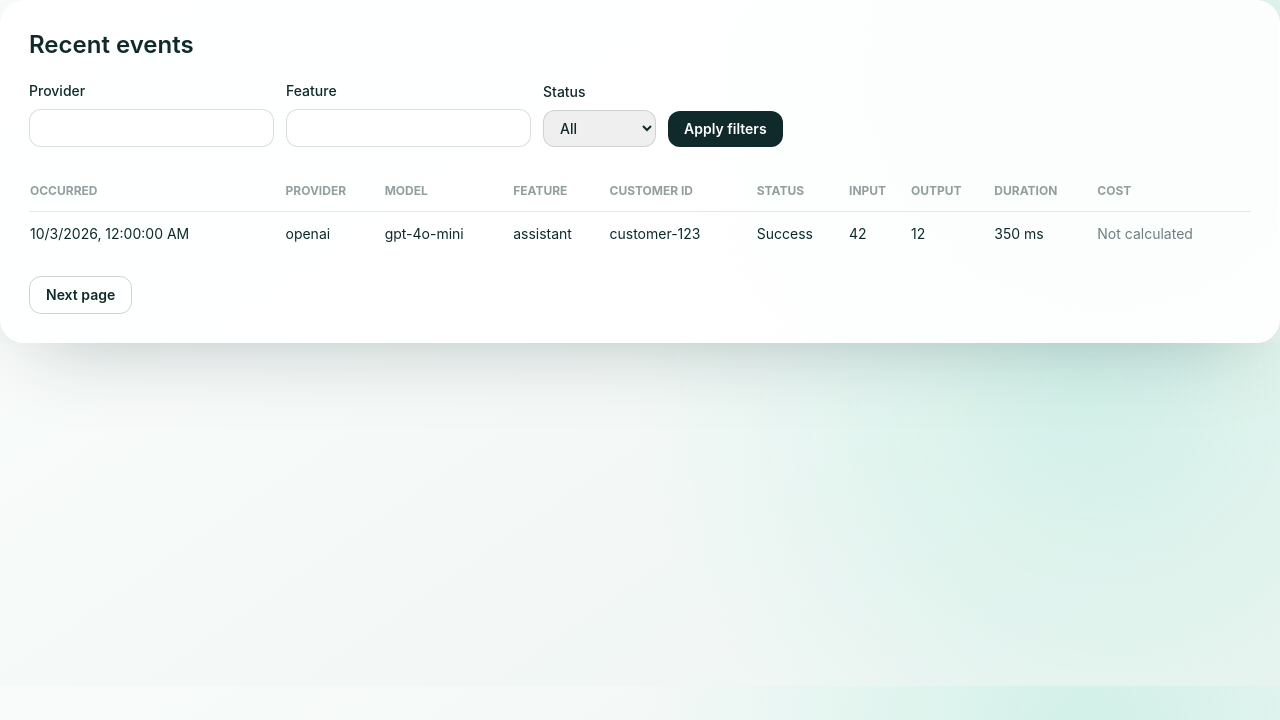
Scenario: RecentEvents › shows populated metadata and advances to the next cursor
Expected: the text "gpt-4o-mini" is shown, [384,212,512,256]
Click the button "Next page" at (81, 295), box [29,276,132,314]
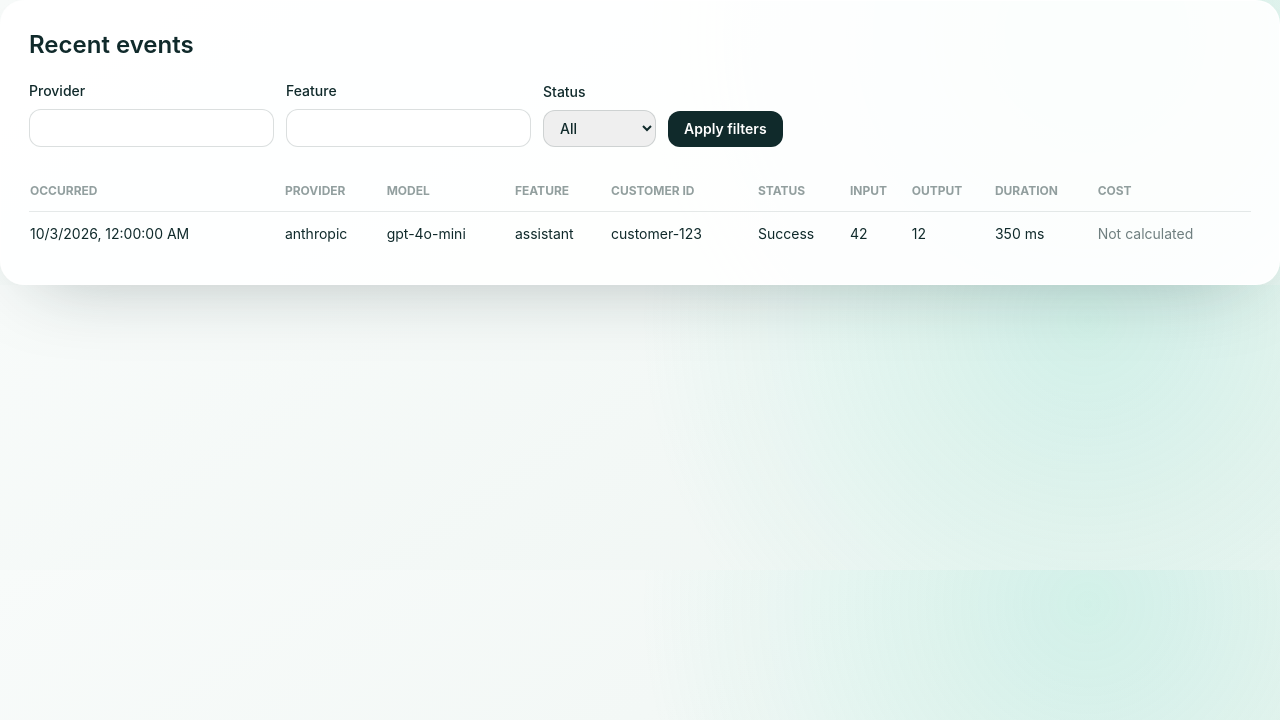
Now the text "anthropic" is shown, box [284,212,386,256]
